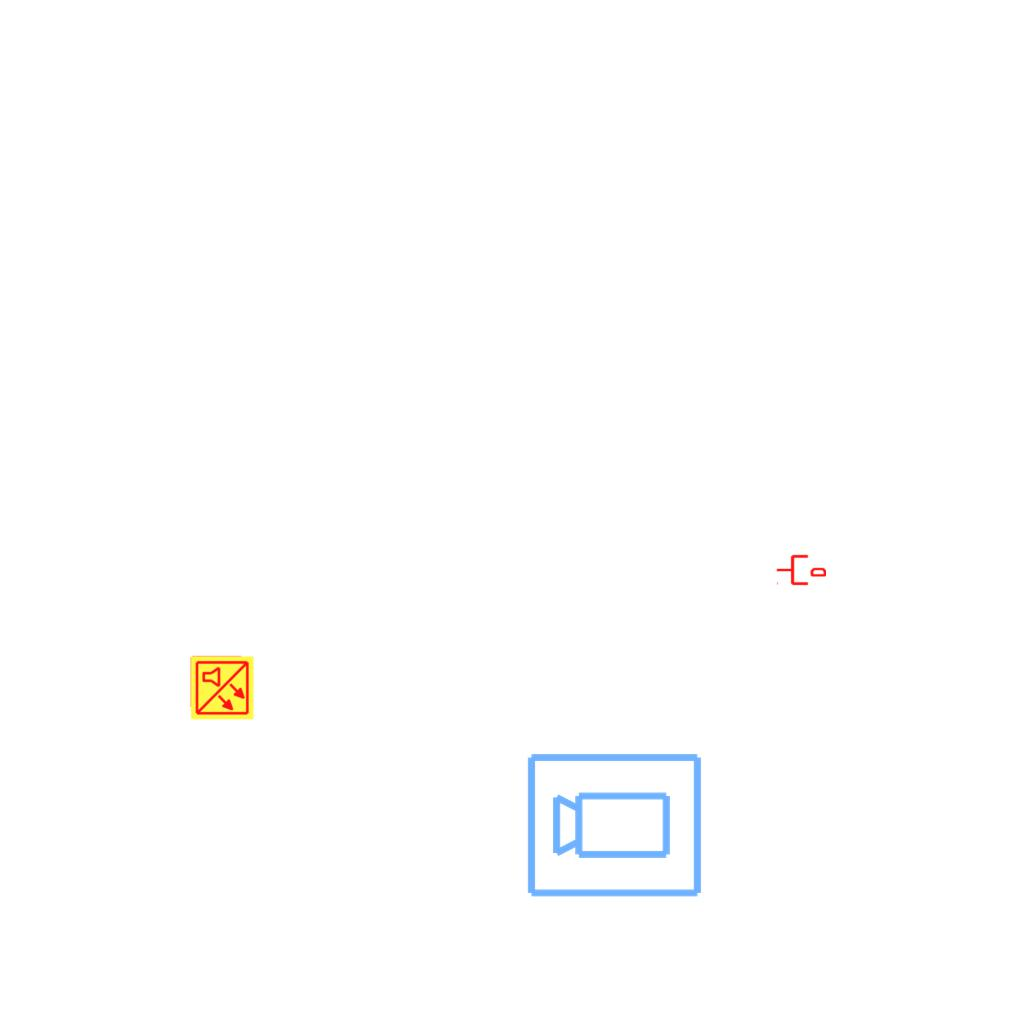Datenanschluss_einfach: (776, 553, 826, 587)
KFO_Kamera_mit_Festobjektiv: (524, 747, 706, 901)
OKW_Multisensormelder_(Kombination_optischer_Rauch-Kahlenmonoxid_Waerme-Melder): (189, 655, 255, 721)
